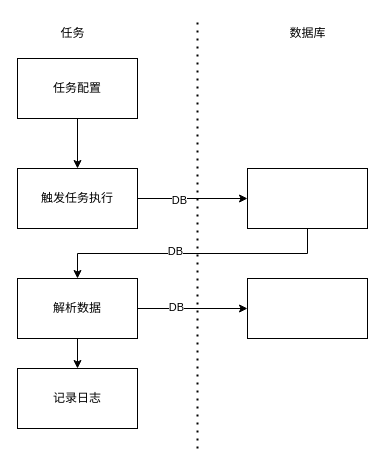
This 385x467 diagram has some shape labels left out. The shapes that lost their labels are listed below. From the top down, each one's box as (x1, y1, x2, y2) in pixels, then its label:
(246, 168, 368, 228): 获取已有数据
(246, 278, 368, 338): 更新或创建
